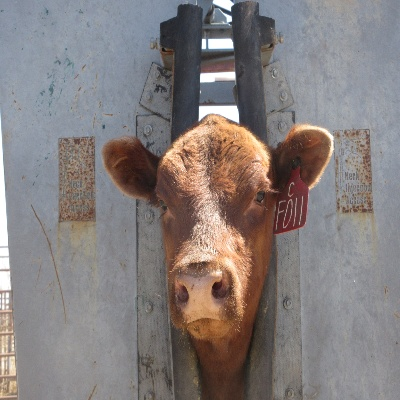fidget_spinner: (172, 267, 227, 317)
